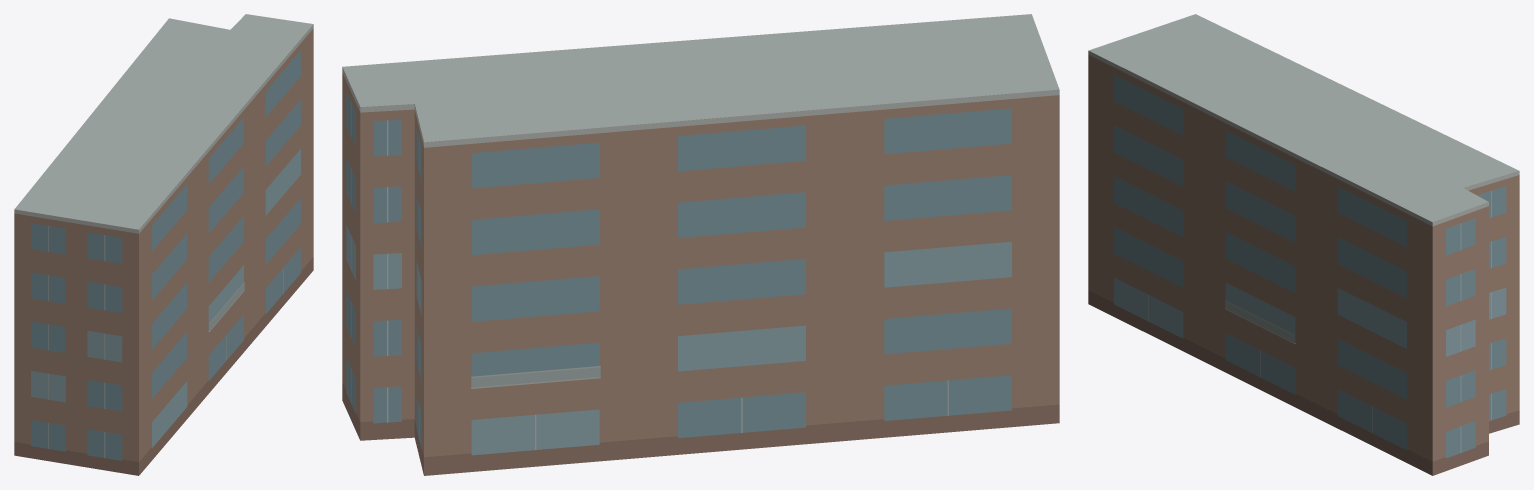
The model's file is survey-upis-32586053.glb.
3 views of the same model, side by side, from view 1: azimuth 30°, elevation 25°; view 2: azimuth 150°, elevation 25°; view 3: azimuth 270°, elevation 25° (orthographic). The views are drawn at different scales.
Parts seen in each view (by area): view 1: survey-upis-32586053.tmp; view 2: survey-upis-32586053.tmp; view 3: survey-upis-32586053.tmp.
Boxes of the visible parts, box(x1,y1,x2,y2) form: survey-upis-32586053.tmp: box(14, 14, 313, 475); survey-upis-32586053.tmp: box(342, 14, 1059, 475); survey-upis-32586053.tmp: box(1088, 14, 1519, 475).
Size of the model in its own units: 26.26 by 14.9 by 22.96.
